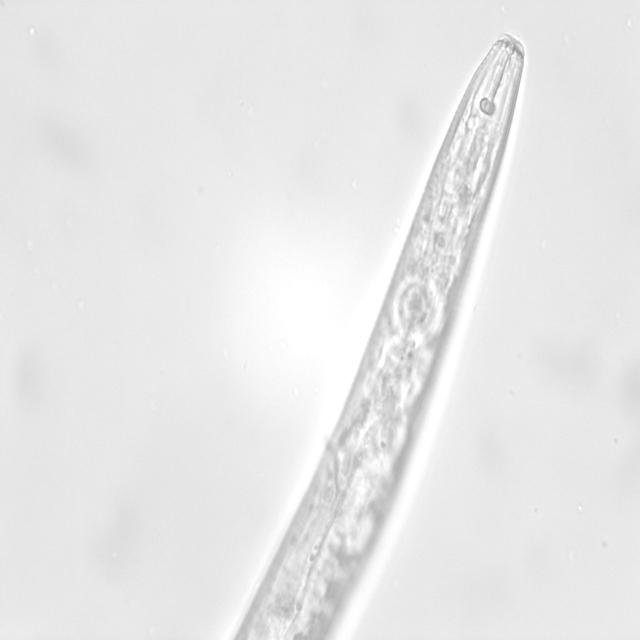Pratylenchus: (333, 23, 539, 346)
